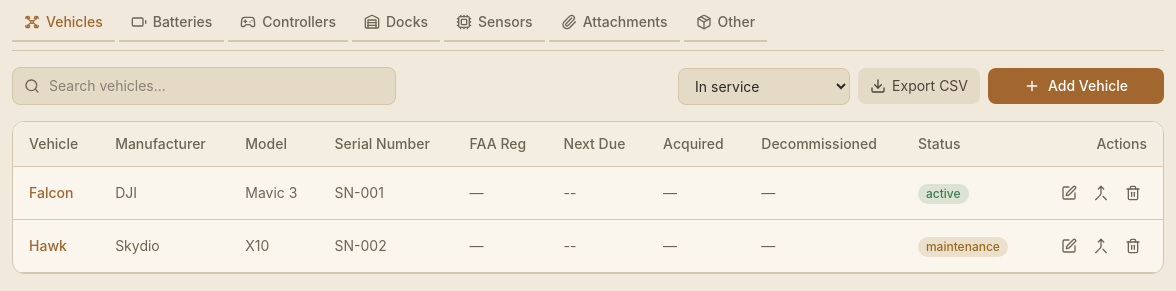
Scenario: FleetPage › filters the list with the search box
The image size is (1176, 291).
Expected: the link "Falcon" is shown, [29, 184, 73, 201]
Type "Hawk" into the field with placeholder "Search vehicles..." at coordinates (204, 86), box [12, 67, 396, 105]
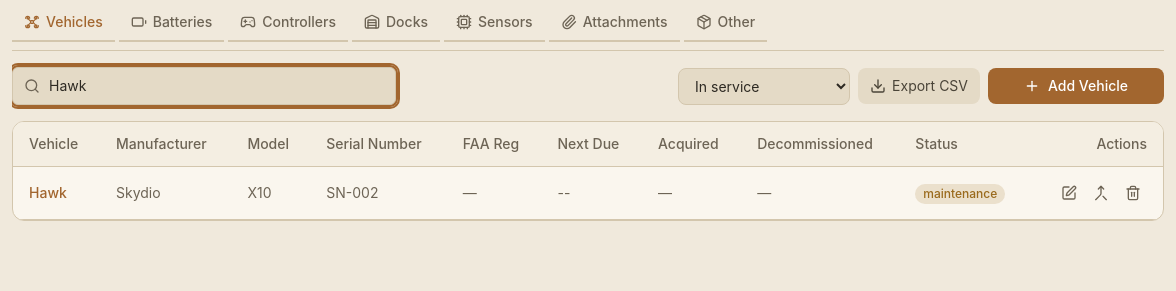
Expected: the link "Hawk" is shown, [29, 184, 67, 201]
Expected: the link "Falcon" is gone
